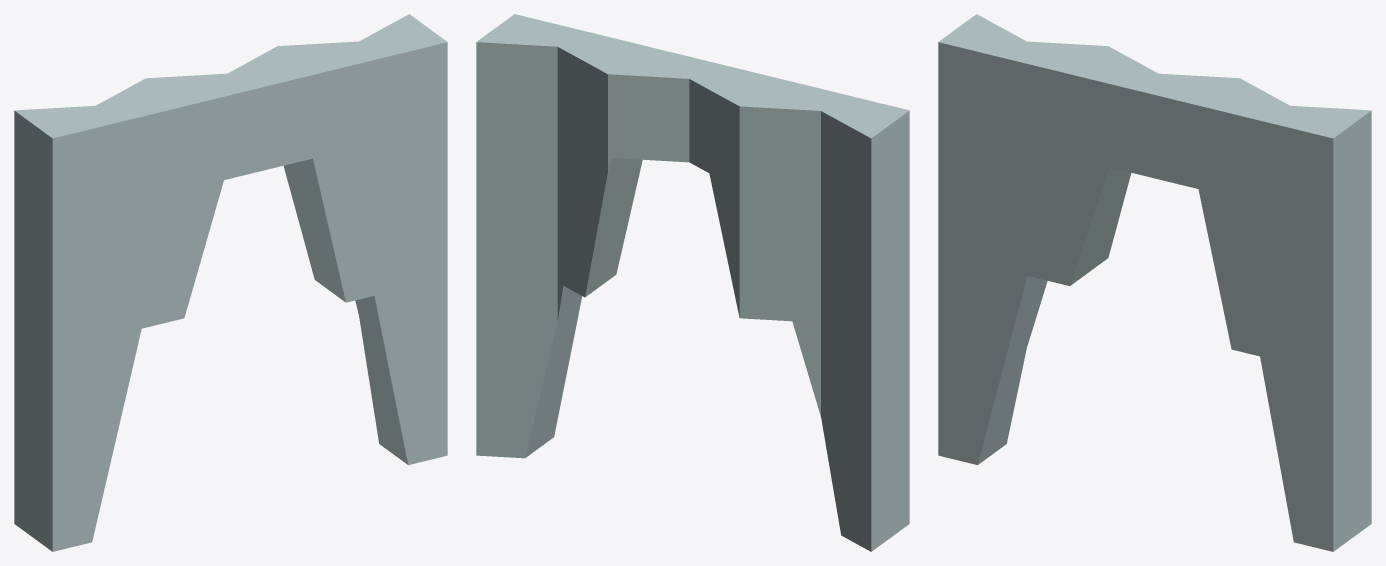
Rendered from cliff_cave_stone.glb.
The picture shows the model from 3 angles, left to right: view 1: azimuth 30°, elevation 25°; view 2: azimuth 150°, elevation 25°; view 3: azimuth 330°, elevation 25°; orthographic projection.
Parts seen in each view (by area): view 1: cliff_cave_stone; view 2: cliff_cave_stone; view 3: cliff_cave_stone.
Boxes of the visible parts, x1=… form: cliff_cave_stone: x1=14, y1=14, x2=447, y2=551; cliff_cave_stone: x1=476, y1=14, x2=909, y2=551; cliff_cave_stone: x1=938, y1=14, x2=1371, y2=551.
Size of the model in its own units: 1 by 1 by 0.1685.
